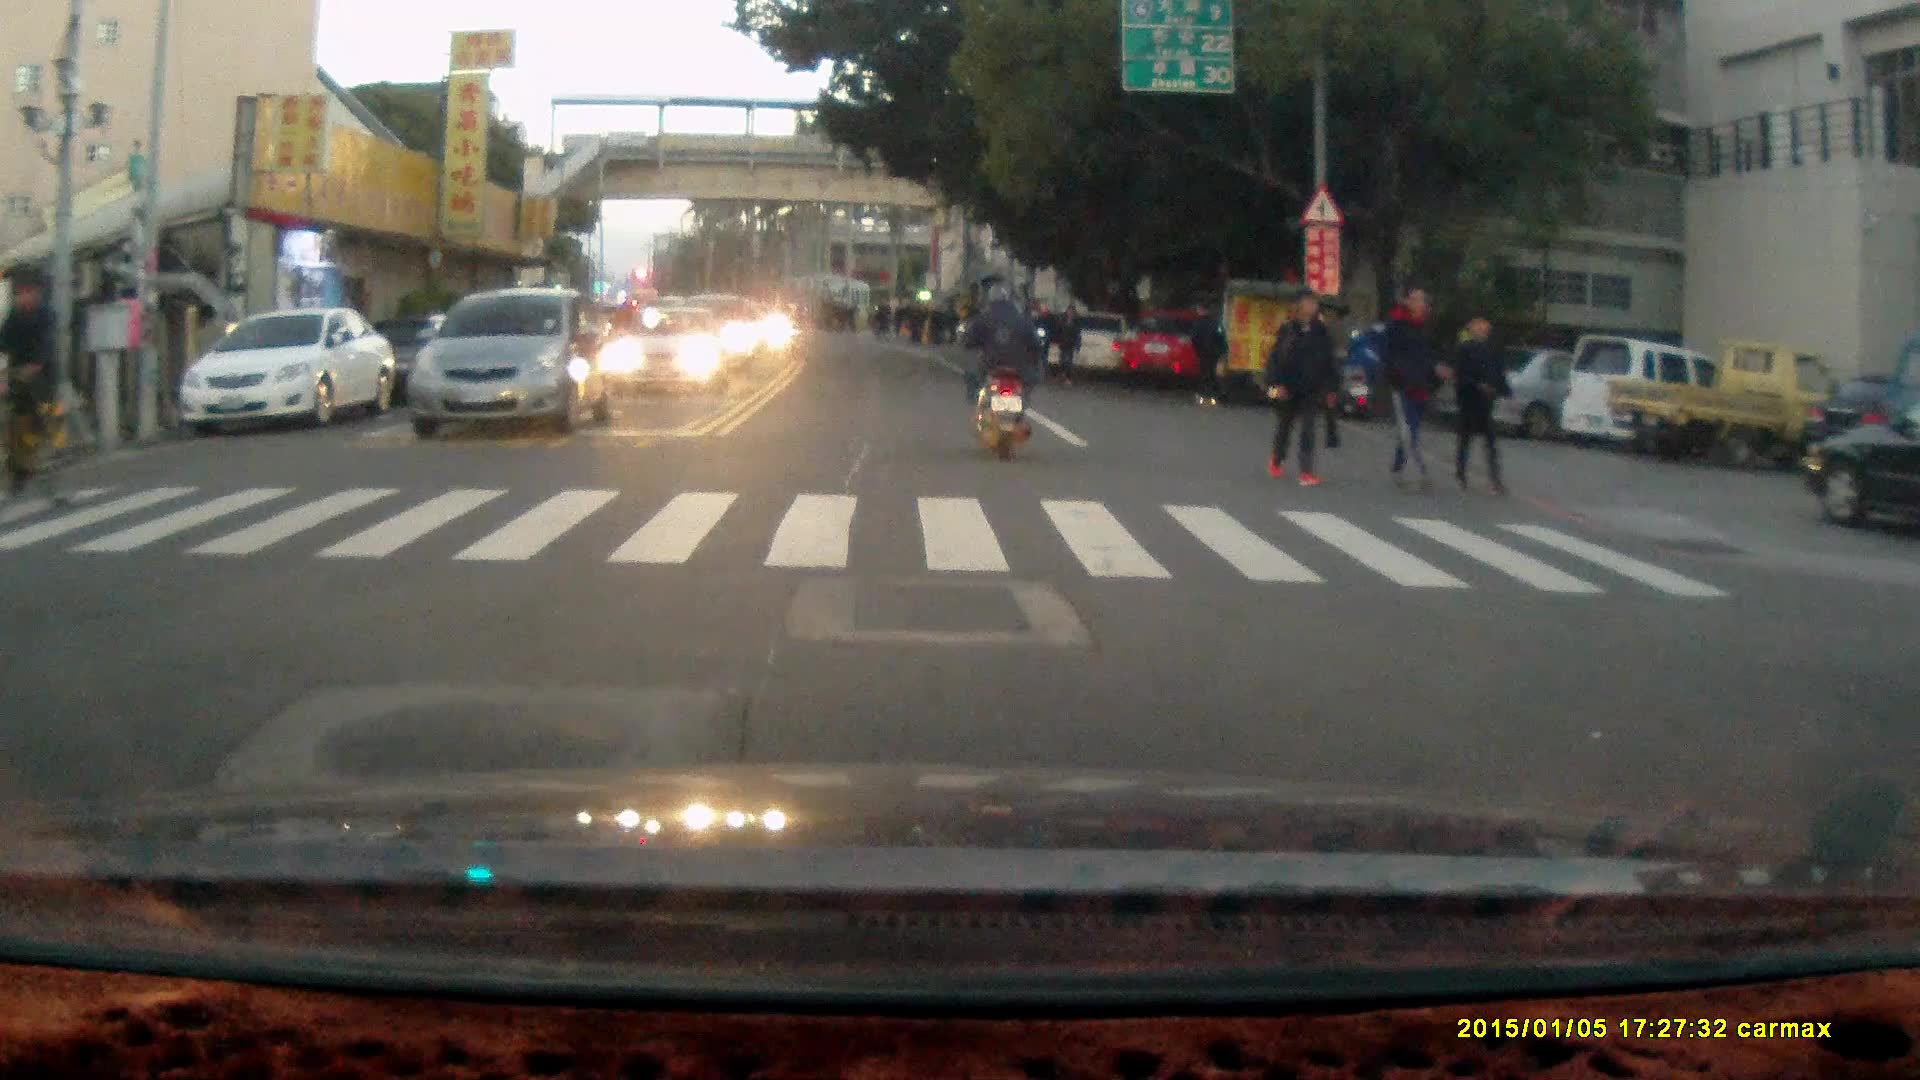pedestrian: (1377, 276, 1451, 497), (1263, 284, 1333, 491), (1449, 305, 1515, 496), (1185, 293, 1226, 407), (1054, 303, 1084, 385), (1018, 294, 1046, 379)
rider: (0, 265, 89, 520), (955, 276, 1043, 459)
vehicle: (1602, 337, 1848, 470), (406, 285, 616, 433), (178, 304, 403, 434), (1439, 336, 1684, 431), (1801, 402, 1920, 531), (609, 304, 727, 390), (1113, 301, 1225, 385)
